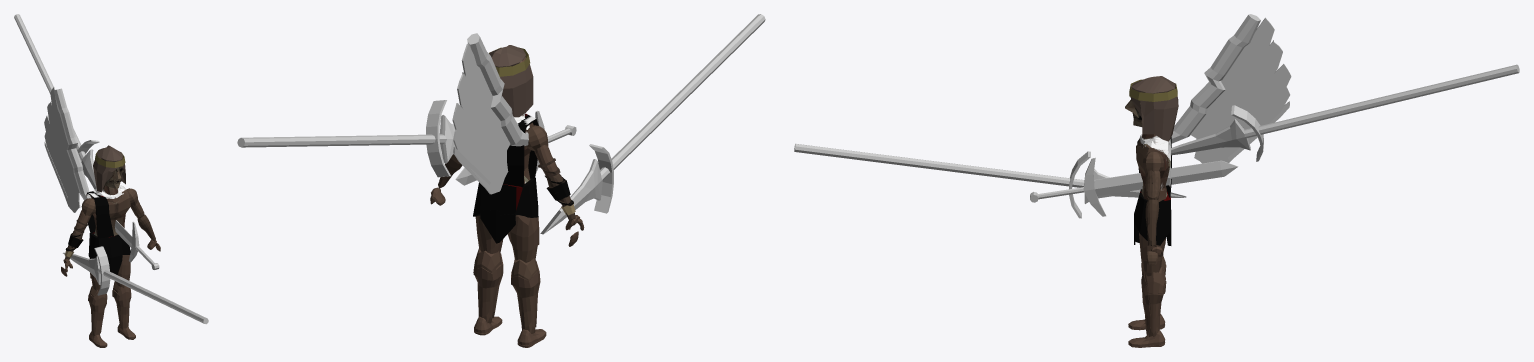
File: playerdeity 1.fbx
3 views of the same model, side by side, from view 1: azimuth 30°, elevation 25°; view 2: azimuth 150°, elevation 25°; view 3: azimuth 270°, elevation 25° (orthographic). The views are drawn at different scales.
Visible parts, largest first — view 1: Cube, Spear.001, Spear, CHEST.001, TORSO.002, Hair, Robe, LEGLOR.004, Sword, LEGLOR.005, ARMUPR.001, ARMDOR.001 (+7 smaller); view 2: Cube, Spear.001, Spear, TORSO.002, Hair, LEGLOR.004, LEGLOR.003, LEGUPR.001, Robe, ARMUPR.001, ARMDOR.001, Sword (+2 smaller); view 3: Cube, Spear, Spear.001, Sword, Hair, CHEST.001, TORSO.002, LEGLOR.003, ARMUPL.001.
Boxes of the visible parts, bbox=[...] form: Cube: bbox=[44, 87, 91, 212]; Spear.001: bbox=[63, 246, 208, 324]; Spear: bbox=[14, 14, 99, 189]; CHEST.001: bbox=[86, 185, 130, 236]; TORSO.002: bbox=[88, 232, 130, 274]; Hair: bbox=[93, 145, 125, 192]; Robe: bbox=[86, 191, 113, 238]; LEGLOR.004: bbox=[88, 286, 107, 336]; Sword: bbox=[115, 220, 159, 269]; LEGLOR.005: bbox=[112, 286, 131, 328]; ARMUPR.001: bbox=[74, 198, 95, 232]; ARMDOR.001: bbox=[64, 229, 83, 259]; Cube: bbox=[452, 33, 528, 194]; Spear.001: bbox=[540, 14, 765, 234]; Spear: bbox=[237, 100, 455, 177]; TORSO.002: bbox=[473, 177, 538, 243]; Hair: bbox=[489, 45, 533, 117]; LEGLOR.004: bbox=[511, 258, 540, 333]; LEGLOR.003: bbox=[473, 248, 501, 323]; LEGUPR.001: bbox=[507, 215, 539, 262]; Robe: bbox=[503, 113, 538, 186]; ARMUPR.001: bbox=[526, 125, 560, 177]; ARMDOR.001: bbox=[545, 173, 575, 220]; Sword: bbox=[455, 110, 576, 185]; Cube: bbox=[1171, 14, 1291, 163]; Spear: bbox=[1171, 64, 1519, 161]; Spear.001: bbox=[794, 143, 1186, 218]; Sword: bbox=[1030, 157, 1238, 216]; Hair: bbox=[1130, 76, 1178, 141]; CHEST.001: bbox=[1136, 134, 1170, 201]; TORSO.002: bbox=[1134, 190, 1171, 245]; LEGLOR.003: bbox=[1144, 267, 1165, 336]; ARMUPL.001: bbox=[1143, 151, 1163, 199].
Bounding box in the file's own units: 208 × 470 × 988.
